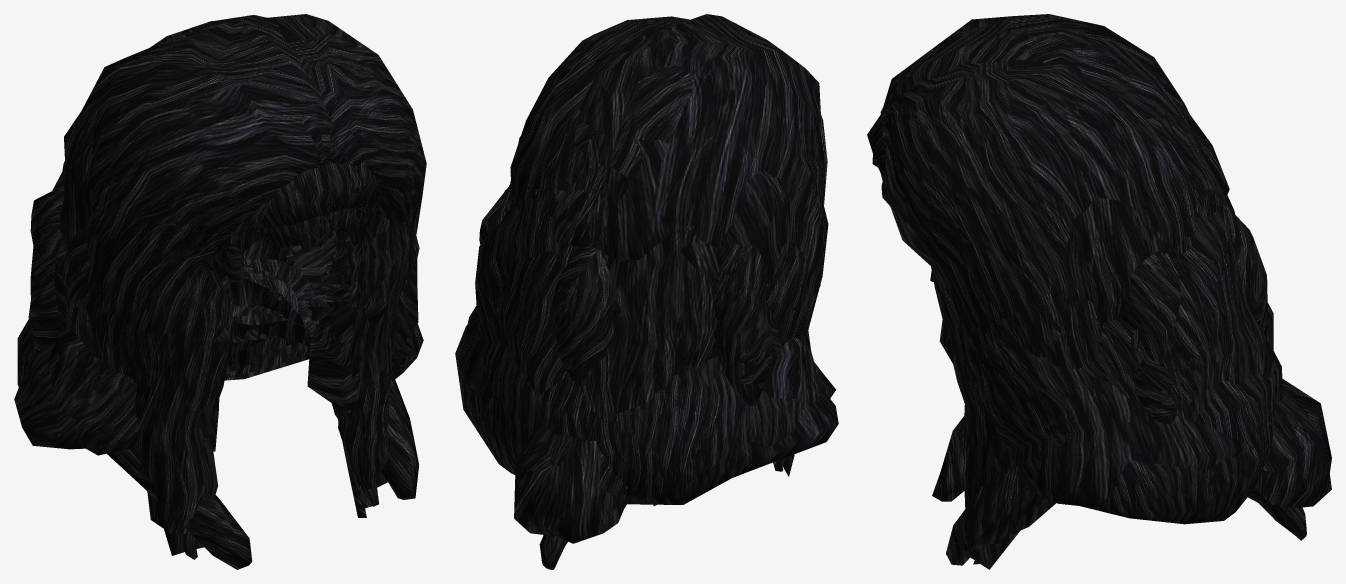
File: FemaleHairPlaceable.dae
3 views of the same model, side by side, from view 1: azimuth 30°, elevation 25°; view 2: azimuth 150°, elevation 25°; view 3: azimuth 270°, elevation 25° (orthographic). The views are drawn at different scales.
Parts seen in each view (by area): view 1: Culry_pt_Right, Culry_pt_Left, Curly_bangs, L_PigTails, Curly_Mid_Pt, CulyPigTailz, Long_W_bangs, Med_pt_Center, Med_Curly_RT, Med_Curly_Center, Long_pt_L, MedDredzz (+16 smaller); view 2: Culry_pt_Right, Curly_bangs, Culry_pt_Left, Med_Curly_RT, CulyPigTailz, Curly_Mid_Pt, CurlyPonyTail, Med_Curly_L, Med_Curly_Bangz, L_PonyTail; view 3: Culry_pt_Left, Curly_bangs, Curly_Mid_Pt, Culry_pt_Right, Med_Curly_L, L_PigTails, CulyPigTailz, CurlyPonyTail, Med_Curly_RT, L_PonyTail, Long_pt_L.
Boxes of the visible parts, <box> form: Culry_pt_Right: <box>64,15,360,534</box>; Culry_pt_Left: <box>150,14,426,488</box>; Curly_bangs: <box>17,161,418,455</box>; L_PigTails: <box>54,257,418,569</box>; Curly_Mid_Pt: <box>14,65,423,449</box>; CulyPigTailz: <box>28,170,67,350</box>; Long_W_bangs: <box>29,162,366,405</box>; Med_pt_Center: <box>199,244,361,451</box>; Med_Curly_RT: <box>60,130,349,287</box>; Med_Curly_Center: <box>170,214,390,344</box>; Long_pt_L: <box>185,238,378,559</box>; MedDredzz: <box>224,210,362,282</box>; Culry_pt_Right: <box>515,14,828,543</box>; Curly_bangs: <box>455,109,835,504</box>; Culry_pt_Left: <box>502,16,694,536</box>; Med_Curly_RT: <box>593,138,791,283</box>; CulyPigTailz: <box>479,185,773,405</box>; Curly_Mid_Pt: <box>459,305,838,477</box>; CurlyPonyTail: <box>549,247,613,383</box>; Med_Curly_L: <box>509,122,605,246</box>; Med_Curly_Bangz: <box>766,240,820,315</box>; L_PonyTail: <box>539,535,567,569</box>; Culry_pt_Left: <box>880,35,1331,543</box>; Curly_bangs: <box>874,118,1282,524</box>; Curly_Mid_Pt: <box>965,99,1253,507</box>; Culry_pt_Right: <box>880,14,1331,476</box>; Med_Curly_L: <box>1063,110,1229,321</box>; L_PigTails: <box>932,328,1140,565</box>; CulyPigTailz: <box>1121,251,1180,424</box>; CurlyPonyTail: <box>1223,203,1268,335</box>; Med_Curly_RT: <box>1160,78,1229,204</box>; L_PonyTail: <box>1248,488,1306,540</box>; Long_pt_L: <box>970,487,1274,569</box>.
Size of the model in its own units: 0.3094 by 0.3689 by 0.3115.
